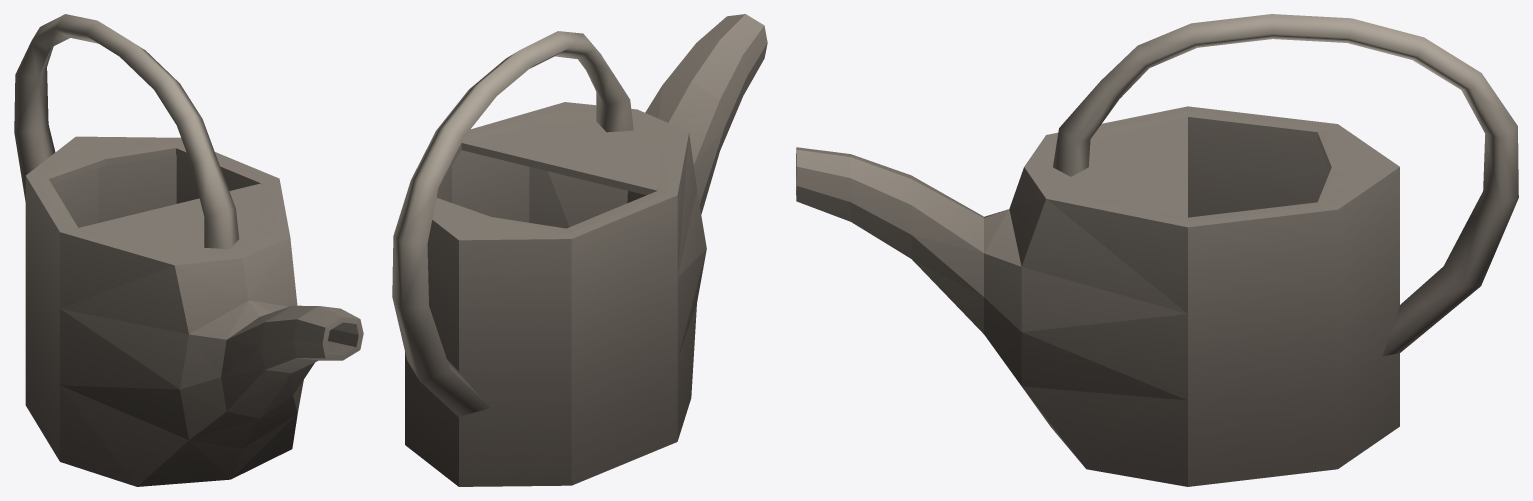
Rendered from Gießkanne.fbx.
3 views of the same model, side by side, from view 1: azimuth 30°, elevation 25°; view 2: azimuth 150°, elevation 25°; view 3: azimuth 270°, elevation 25° (orthographic). The views are drawn at different scales.
Parts seen in each view (by area): view 1: Gießkanne; view 2: Gießkanne; view 3: Gießkanne.
Boxes of the visible parts, box(x1,y1,x2,y2) form: Gießkanne: box(14, 14, 363, 486); Gießkanne: box(392, 14, 767, 486); Gießkanne: box(796, 14, 1518, 486).
Size of the model in its own units: 49.69 by 78.98 by 125.
